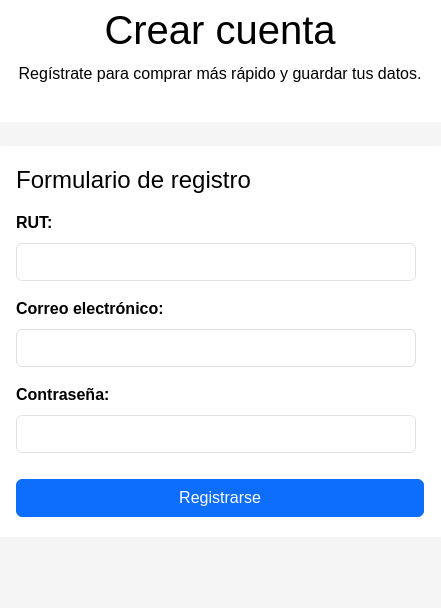
Scenario: Pruebas de Validación en el Formulario de Registro › debe rechazar el formulario cuando la contraseña está vacía
Type "201234567" into the field labelled "RUT:" at x=216, y=262, box [16,243,416,281]
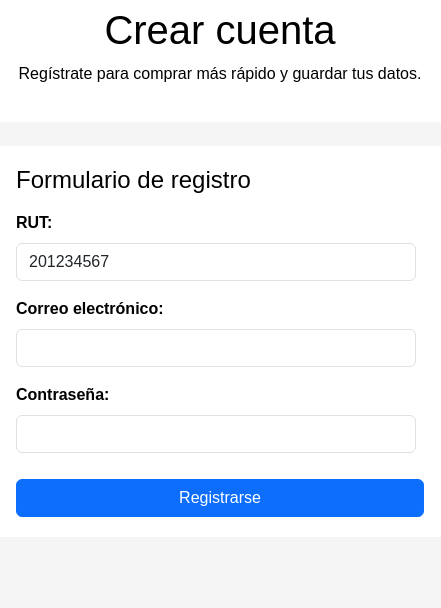
Type "estudiante@duoc.cl" into the field labelled "Correo electrónico:" at x=216, y=348, box [16,329,416,367]
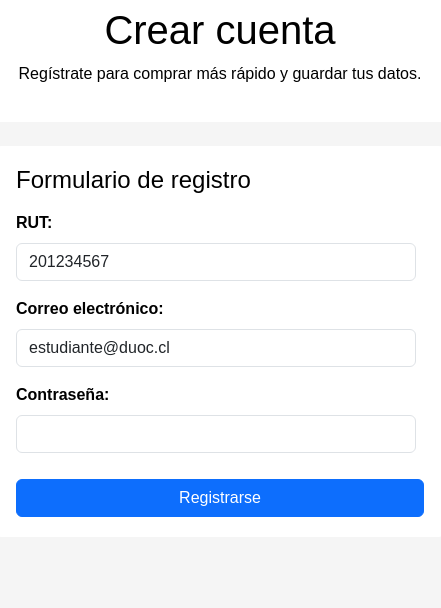
Click the button "Registrarse" at x=220, y=498, box [16,479,424,517]
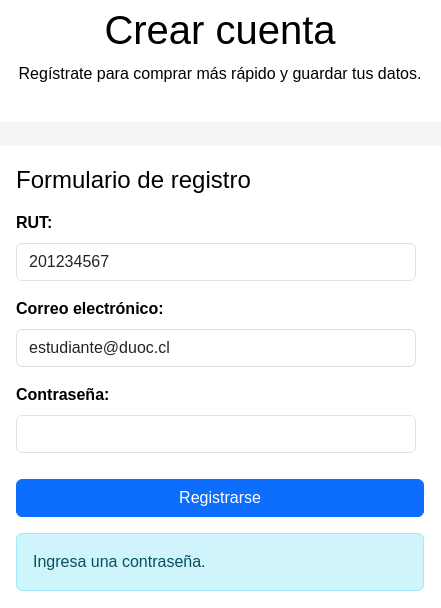
Result: the text "Ingresa una contraseña." is shown at [16,533,424,591]
